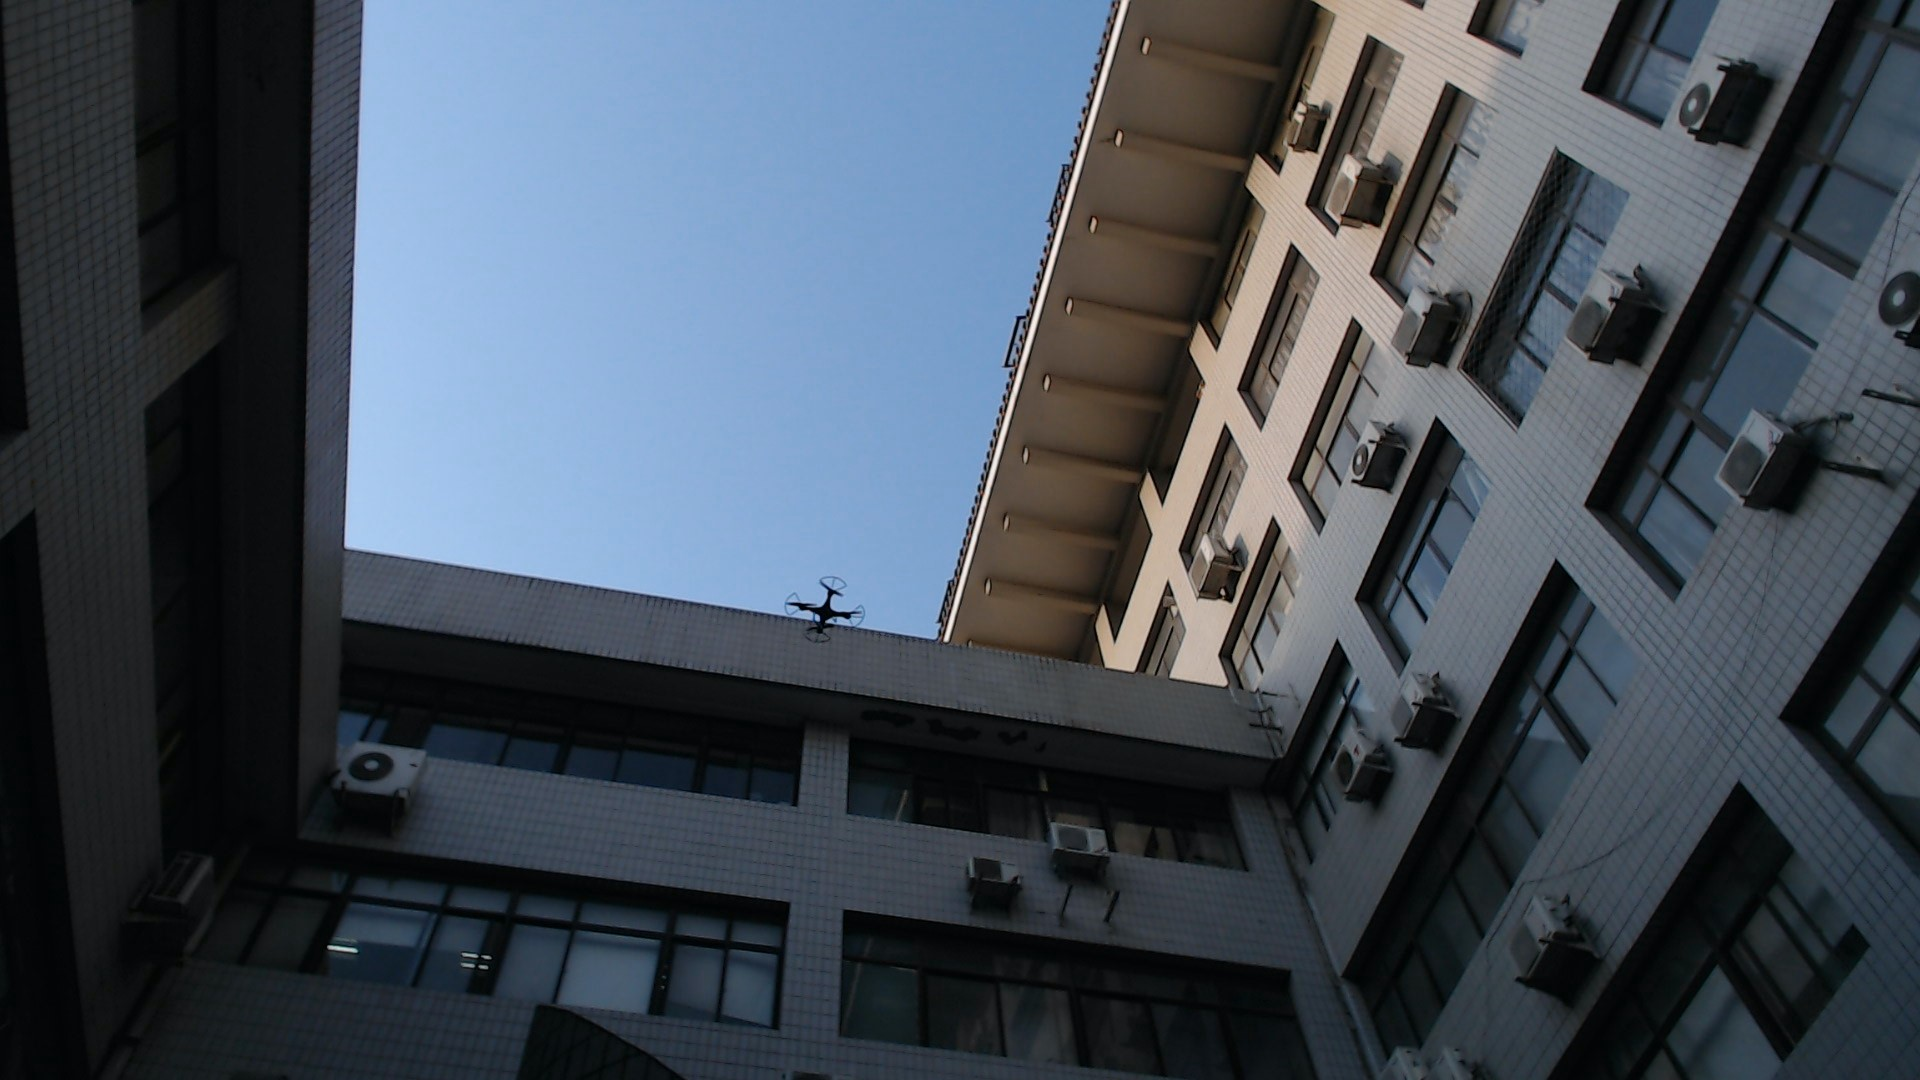drone: (761, 556, 884, 651)
